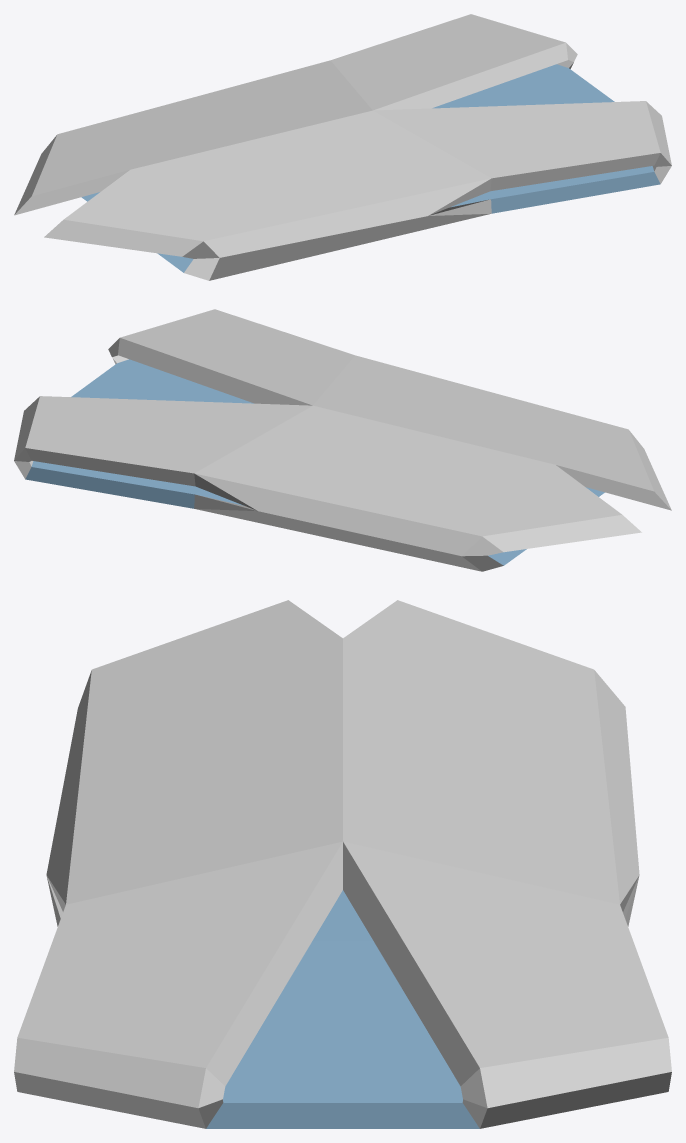
Rendered from vest.fbx.
3 renders of one model, top to bottom at view 1: azimuth 30°, elevation 25°; view 2: azimuth 150°, elevation 25°; view 3: azimuth 270°, elevation 25°, orthographic. The views are drawn at different scales.
Parts seen in each view (by area): view 1: Vest; view 2: Vest; view 3: Vest.
Part boxes in pixels (x1,y1,x2,y2): Vest: (14, 14, 671, 280); Vest: (14, 309, 671, 571); Vest: (14, 600, 671, 1128).
Bounding box in the file's own units: 3.48 × 0.3045 × 1.95.
